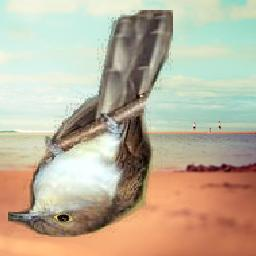Cuckoo: (9, 10, 174, 238)
